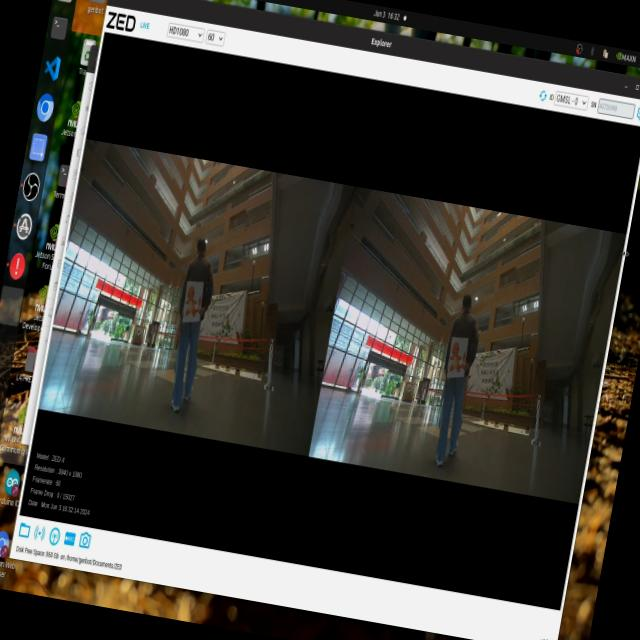red: (441, 334, 476, 389), (174, 270, 206, 322)
